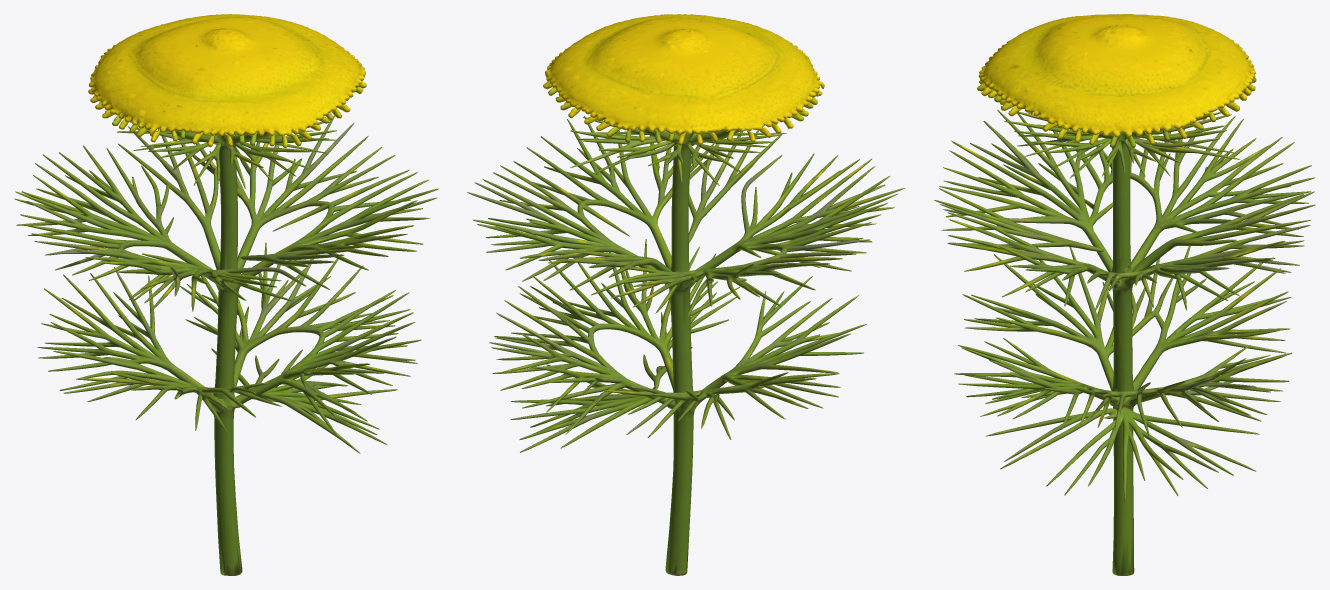
3 views of the same model, side by side, from view 1: azimuth 30°, elevation 25°; view 2: azimuth 150°, elevation 25°; view 3: azimuth 270°, elevation 25° (orthographic).
Parts seen in each view (by area): view 1: node_0; view 2: node_0; view 3: node_0.
Part boxes in pixels (x1,y1,x2,y2): node_0: (14, 14, 438, 575); node_0: (467, 14, 905, 575); node_0: (934, 14, 1315, 575).
Bounding box in the file's own units: 0.8355 × 1.2 × 0.7661.
1 material, 1 textured.
